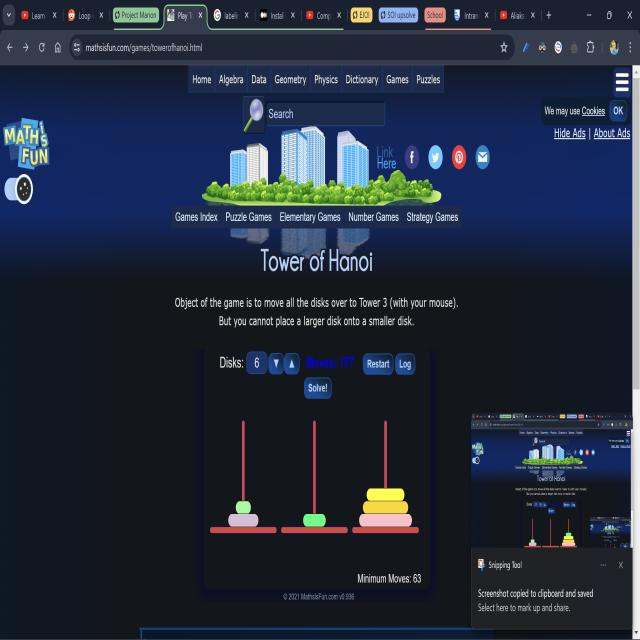disk1: (235, 501, 251, 514)
disk2: (303, 514, 326, 526)
disk3: (228, 514, 259, 527)
disk4: (367, 488, 404, 501)
disk5: (363, 501, 408, 514)
disk6: (359, 514, 412, 526)
